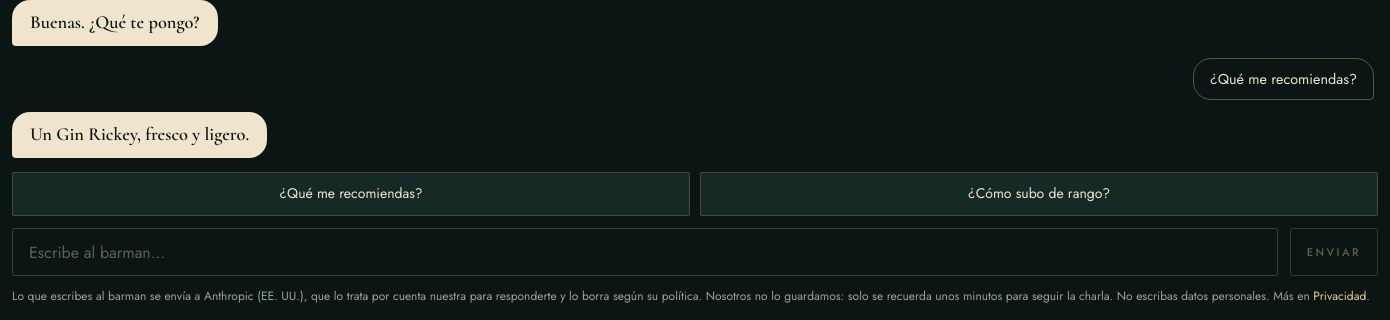
Test: BarmanChat › enables the send button once there is text
Type "hola" into the field with placeholder "Escribe al barman…" at {"x": 645, "y": 252}, box [12,228,1278,276]
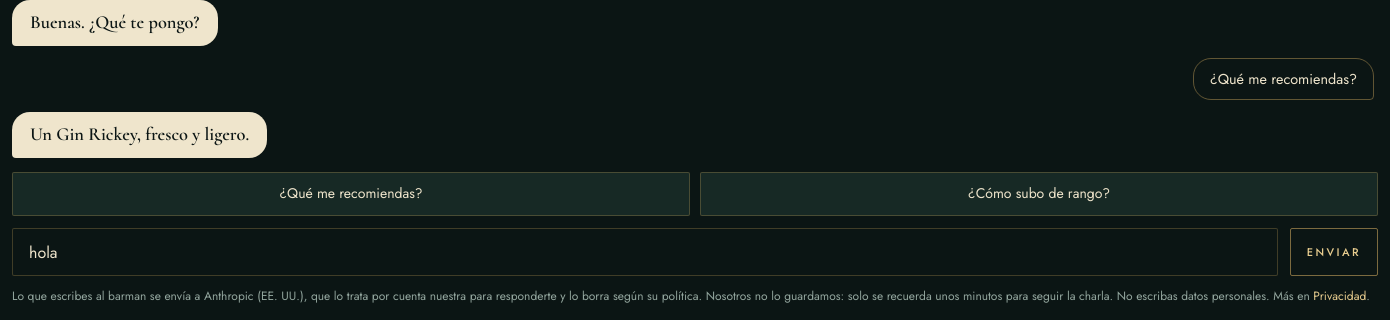
Result: the button with class "send" is enabled at [1290,228,1378,276]
